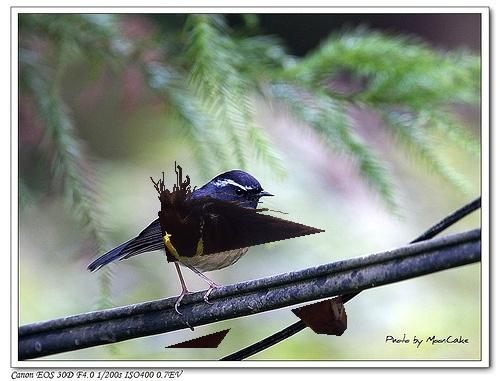tampered: (151, 162, 347, 348)
